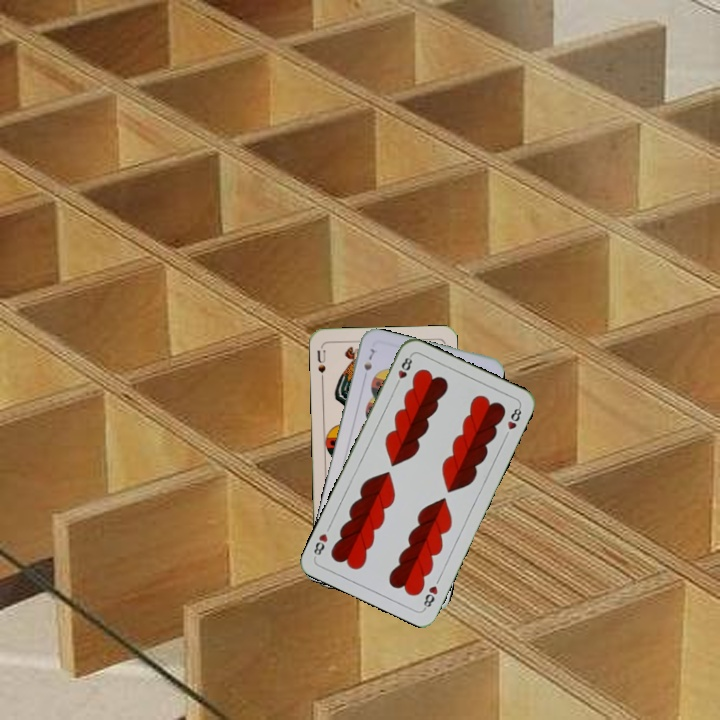H8: (391, 352, 415, 390), (419, 581, 440, 612)
S7: (360, 344, 377, 373)
SU: (313, 346, 328, 383)
